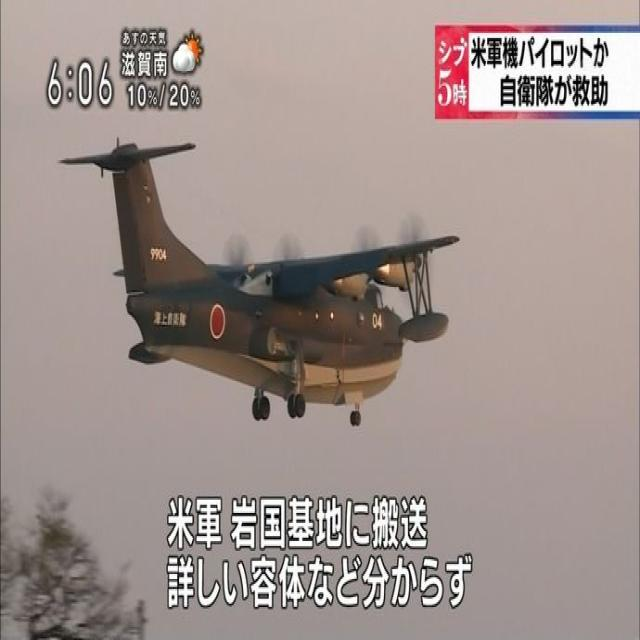MIL_Plane: (57, 134, 461, 427)
